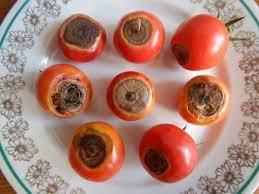tomato early blight: (171, 15, 231, 85), (68, 122, 127, 184), (138, 125, 199, 183), (39, 65, 94, 120), (179, 76, 232, 127), (114, 12, 166, 63), (57, 14, 108, 64), (108, 72, 157, 122)
